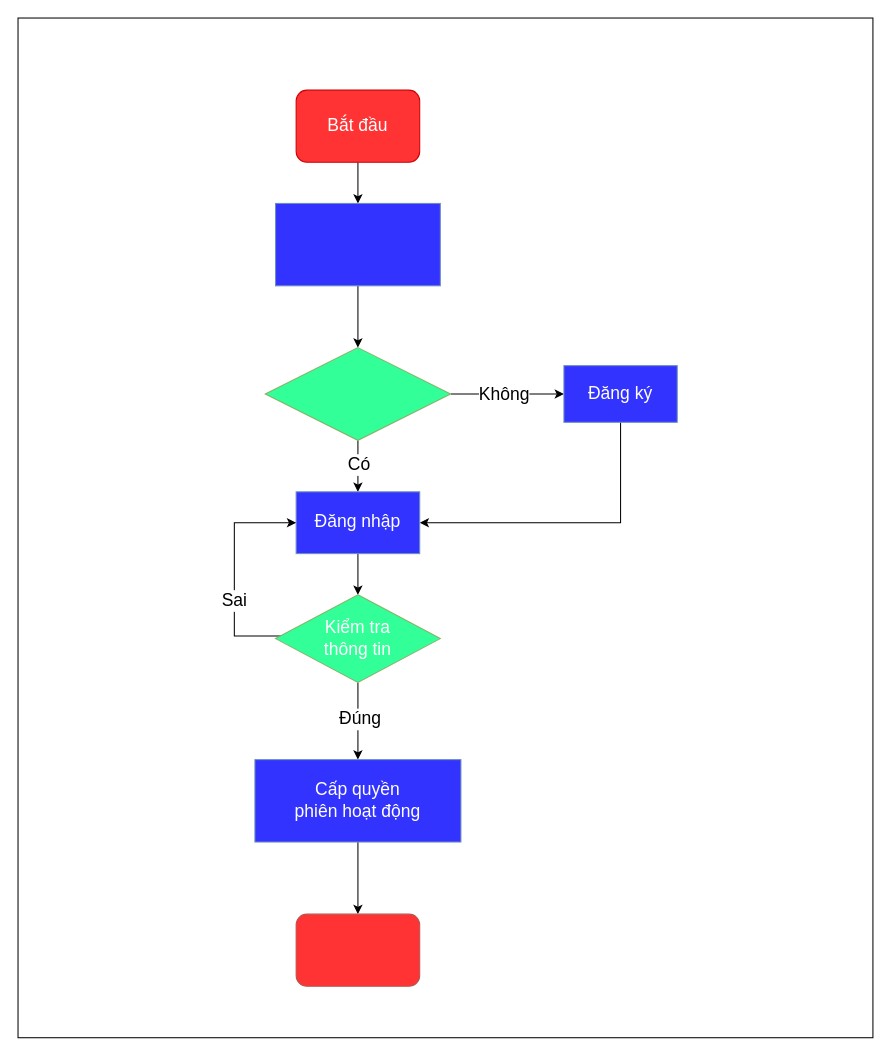
The diagram is 891 pixels wide and 1056 high, and some of its shapes have lost their labels. The centre of each missing label's shape, as x and y in pixels:
Kiểm tra tài khoản: the point at 357,393
Kết thúc: the point at 357,949
Truy cập website: the point at 357,244
